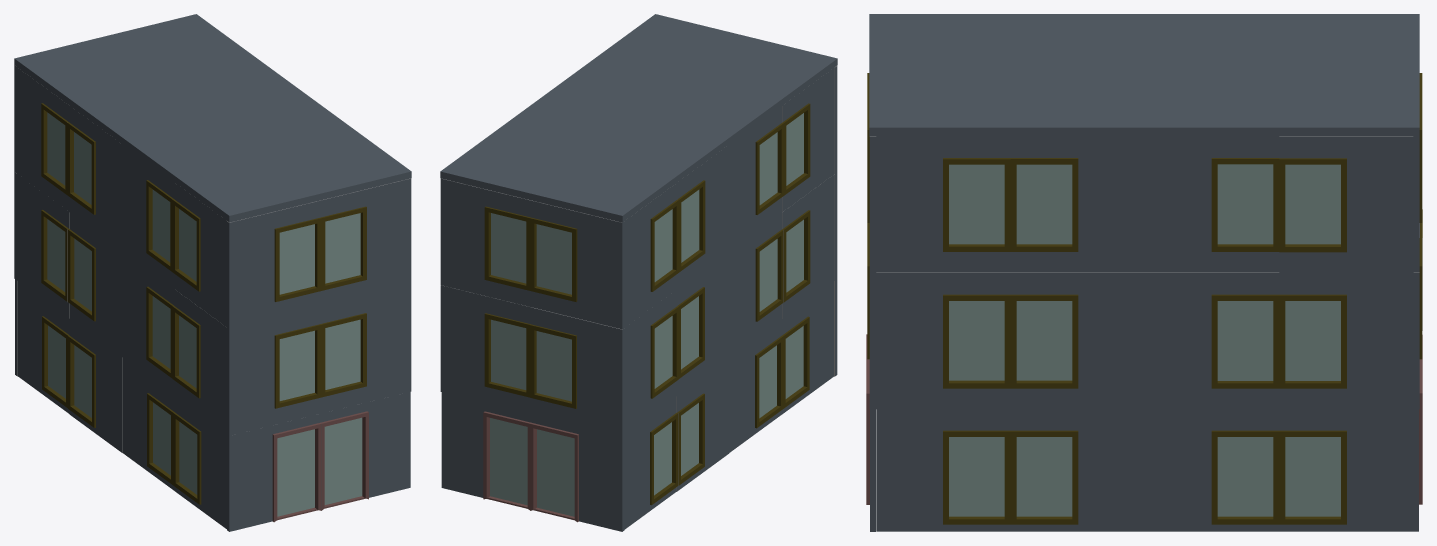
Rendered from BuidingD_finalVersion.fbx.
The picture shows the model from 3 angles, left to right: view 1: azimuth 30°, elevation 25°; view 2: azimuth 150°, elevation 25°; view 3: azimuth 270°, elevation 25°; orthographic projection. The views are drawn at different scales.
Visible parts, largest first — view 1: roof, window01 (×2), window48, window40, window02, fronDoor_01, fronDoor_02, window04, window149, window34, window47, window39 (+6 smaller); view 2: roof, window01 (×2), window02, window30, window35, backDoor_01, backDoor_02, window07, window03, window39, window04, window34 (+6 smaller); view 3: roof, window18, window32, window41, window05, window06, window31, window44, window45, window09, window10, window11 (+7 smaller).
Boxes of the visible parts, x1,y1,x2,y2 form: roof: (14, 14, 411, 222); window01 (×2): (17, 174, 321, 435); window48: (226, 200, 321, 329); window40: (320, 178, 411, 306); window02: (320, 285, 411, 413); fronDoor_01: (227, 414, 321, 531); fronDoor_02: (320, 392, 410, 510); window04: (172, 289, 226, 433); window149: (67, 105, 121, 250); window34: (172, 182, 226, 326); window47: (68, 212, 121, 356); window39: (17, 67, 69, 211); roof: (440, 14, 837, 222); window01 (×2): (440, 178, 678, 433); window02: (530, 307, 624, 435); window30: (530, 200, 624, 329); window35: (440, 285, 531, 413); backDoor_01: (530, 414, 624, 531); backDoor_02: (441, 392, 532, 510); window07: (729, 106, 783, 250); window03: (729, 213, 783, 357); window39: (625, 183, 678, 327); window04: (782, 174, 834, 318); window34: (782, 67, 834, 212); roof: (869, 14, 1419, 136); window18: (876, 272, 1010, 409); window32: (1010, 272, 1144, 409); window41: (1145, 272, 1279, 409); window05: (876, 136, 1010, 272); window06: (1010, 136, 1144, 272); window31: (1145, 136, 1279, 272); window44: (1279, 136, 1413, 272); window45: (1279, 273, 1413, 409); window09: (876, 409, 1010, 531); window10: (1010, 409, 1144, 531); window11: (1145, 409, 1279, 531).
Size of the model in its own units: 9.19 by 14.99 by 18.67.
